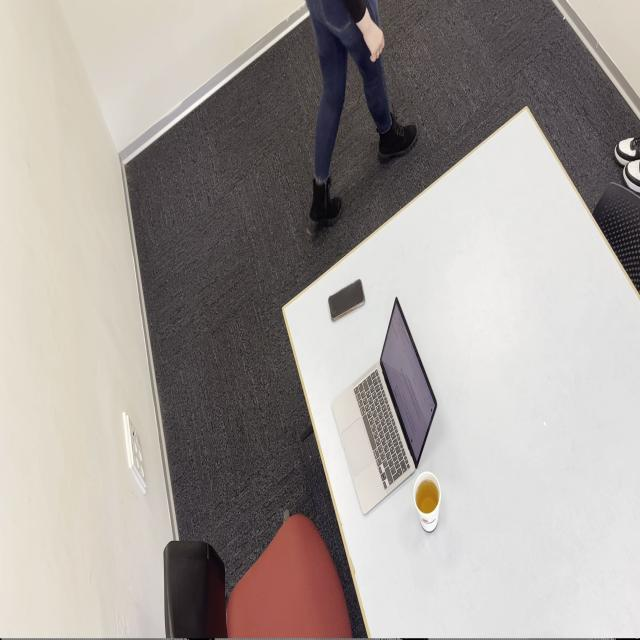bag: (327, 278, 365, 321)
ipad: (304, 0, 417, 236)
laptop: (331, 295, 437, 516)
